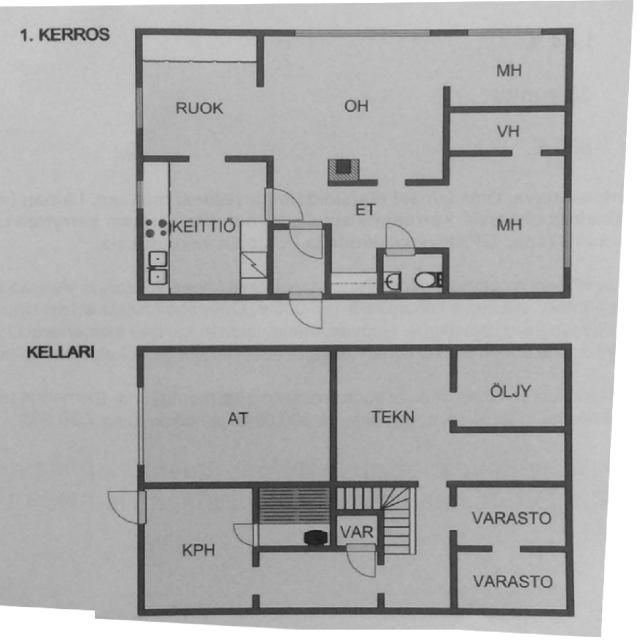door: (272, 33, 446, 184), (446, 32, 565, 109), (285, 289, 327, 334), (102, 487, 148, 528), (261, 184, 306, 225), (287, 222, 328, 264), (340, 542, 380, 582), (380, 219, 418, 257), (228, 520, 262, 550)
window: (291, 25, 433, 43), (557, 192, 578, 273), (463, 23, 546, 41), (131, 382, 146, 471), (130, 83, 147, 134), (131, 174, 146, 214)
zone: (141, 350, 331, 486), (266, 36, 444, 180), (138, 158, 267, 299), (447, 152, 565, 297), (332, 349, 455, 484), (138, 35, 259, 160), (140, 486, 255, 614), (453, 348, 567, 432), (452, 548, 570, 613), (452, 484, 568, 550), (254, 484, 335, 547), (449, 111, 565, 154), (378, 250, 446, 296), (285, 224, 328, 264), (334, 512, 380, 548)
